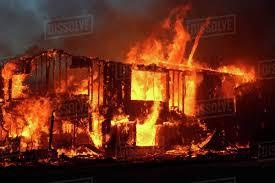fire: (7, 11, 228, 158)
